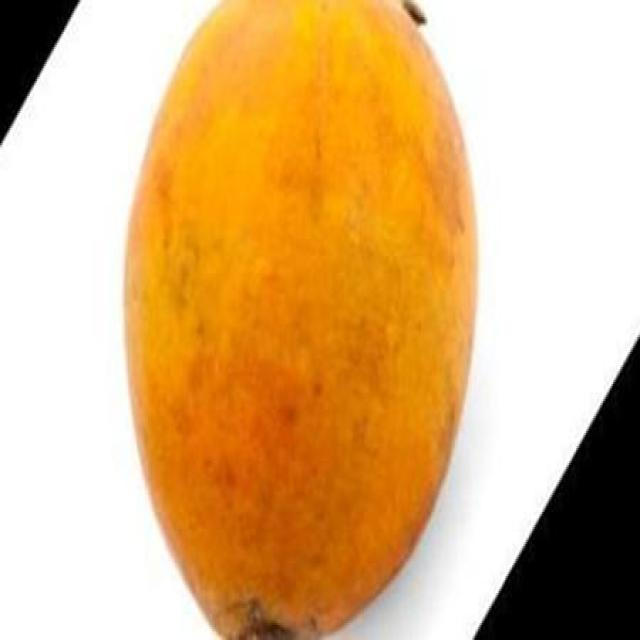good: (119, 0, 481, 638)
